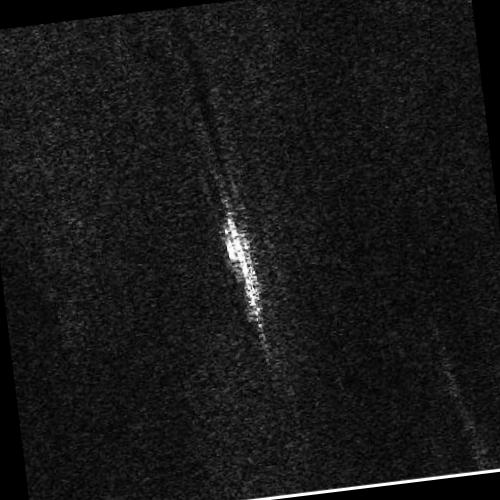ship: (224, 211, 265, 345)
